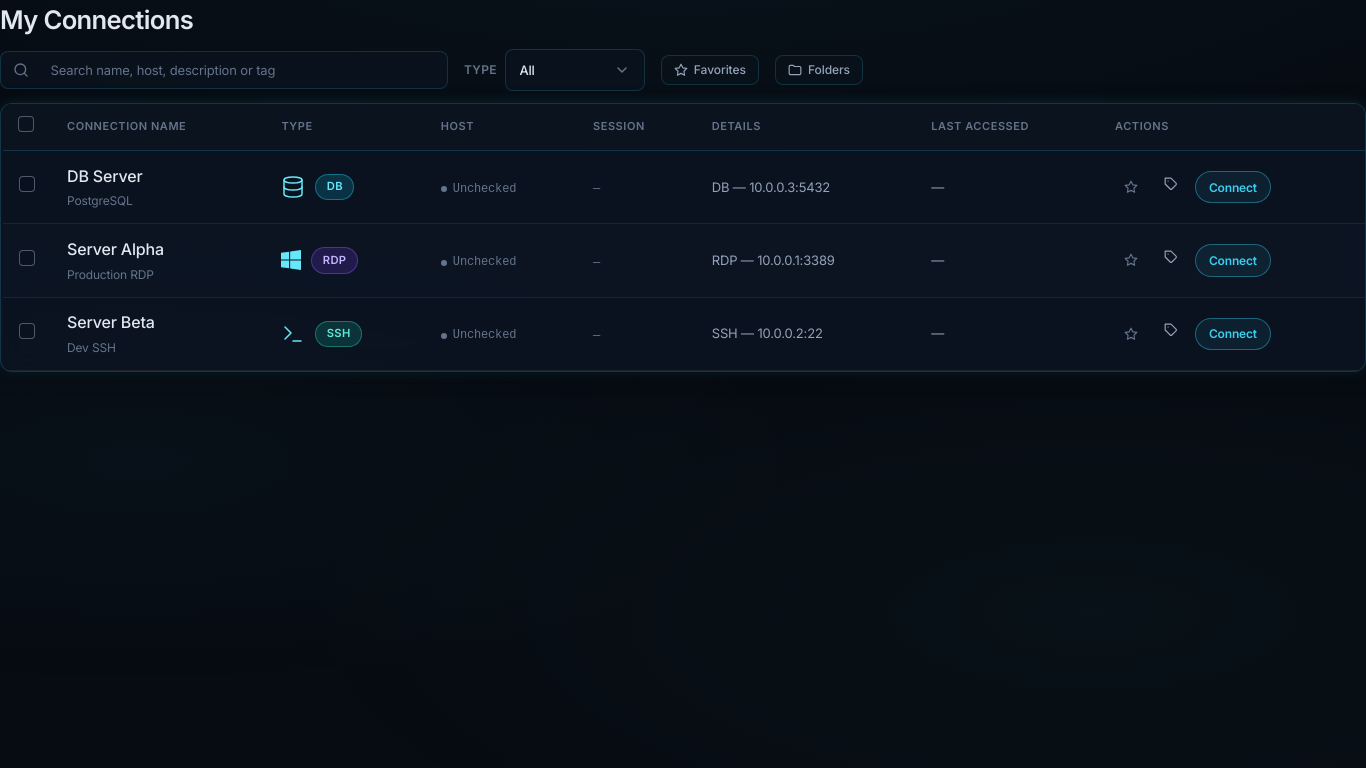
Test: Dashboard › shows tiled credential prompt when opening tiled with credless RDP connections
The image size is (1366, 768).
Check: the text "Server Alpha" is shown, box x1=67 y1=239 x2=164 y2=259
What coordinates should you click on to do the following:
click the checkbox named "Select DB Server"
I would click on:
 (27, 184)
Its box is x1=19 y1=176 x2=35 y2=192.
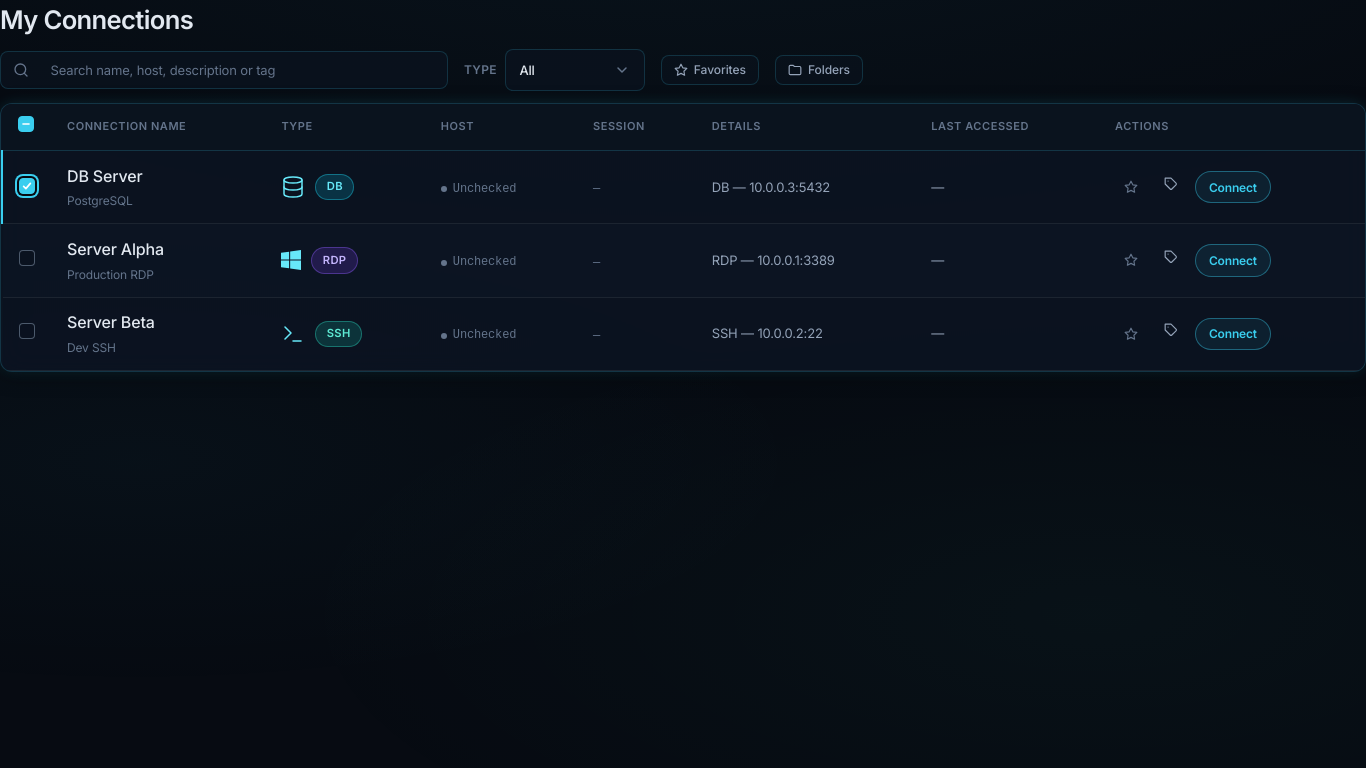
What coordinates should you click on to do the following:
click the checkbox named "Select Server Alpha"
I would click on:
 (27, 258)
Its box is x1=19 y1=250 x2=35 y2=266.
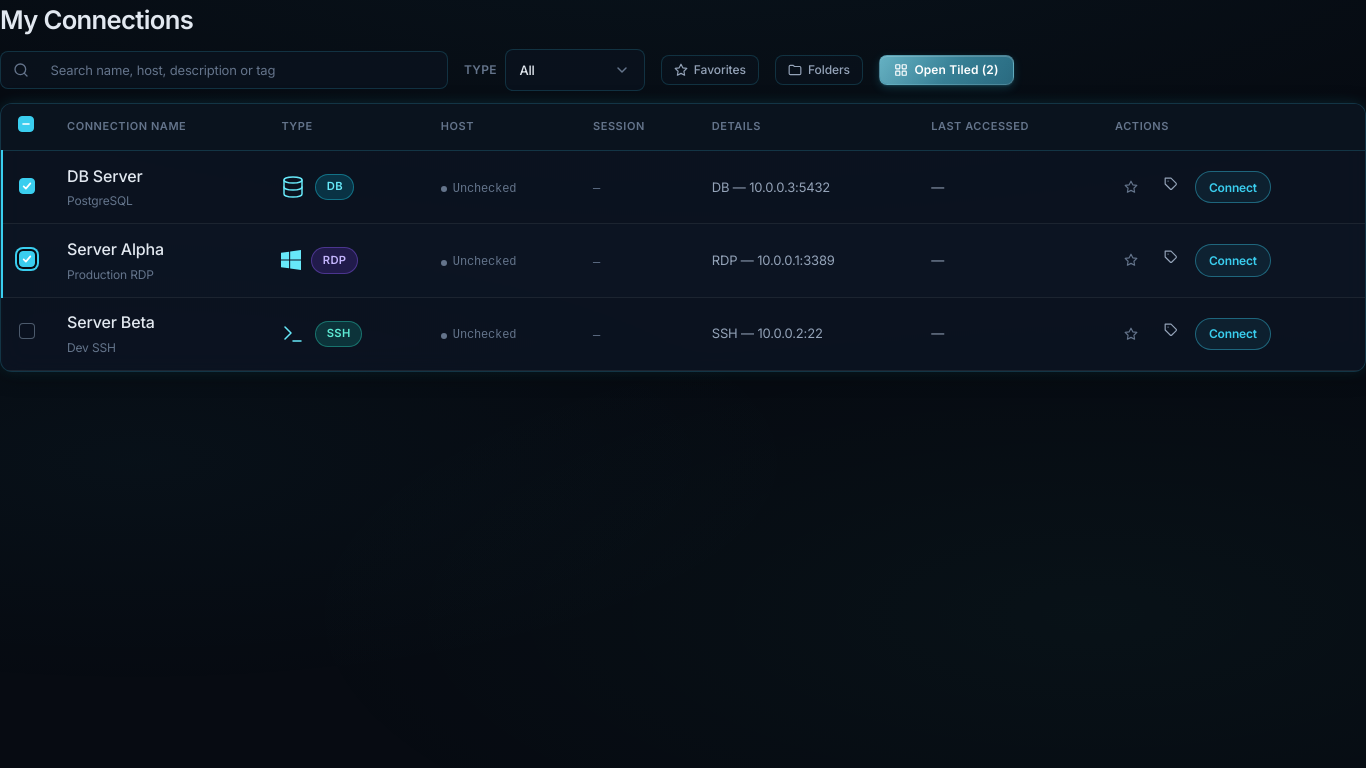
What coordinates should you click on to do the following:
click the button "Open Tiled (2)"
I would click on:
 (946, 70)
Its box is x1=879 y1=54 x2=1014 y2=85.
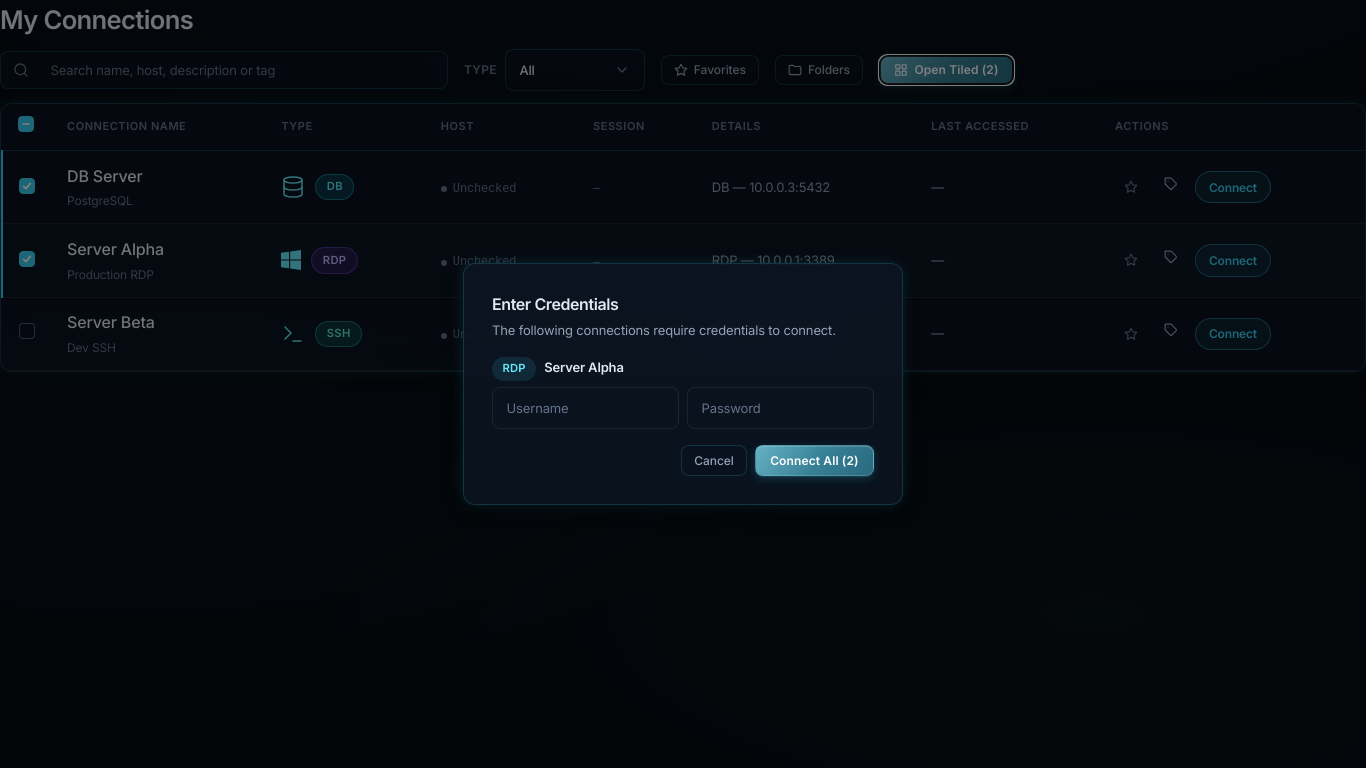
Check: the heading "Enter Credentials" is shown, box x1=492 y1=294 x2=618 y2=314
